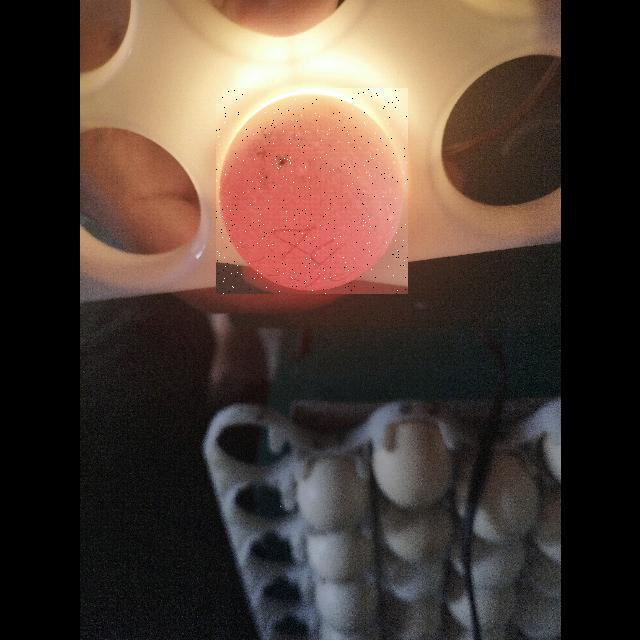Infertile: (216, 88, 408, 294)
